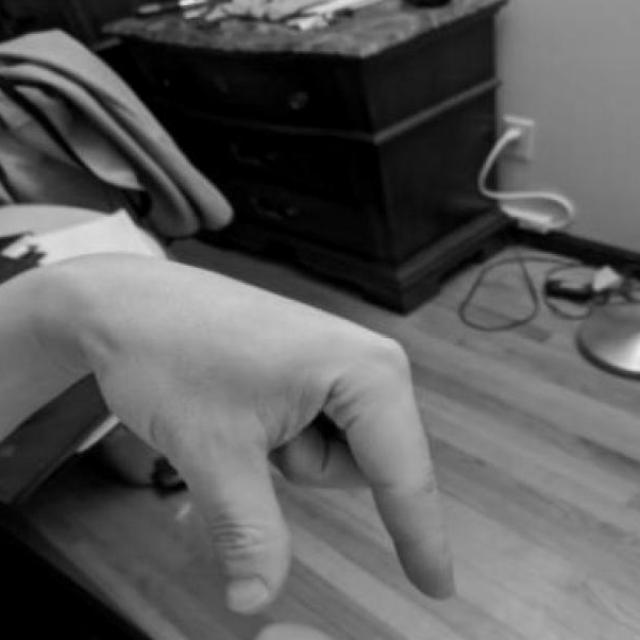Q: (0, 250, 471, 624)
